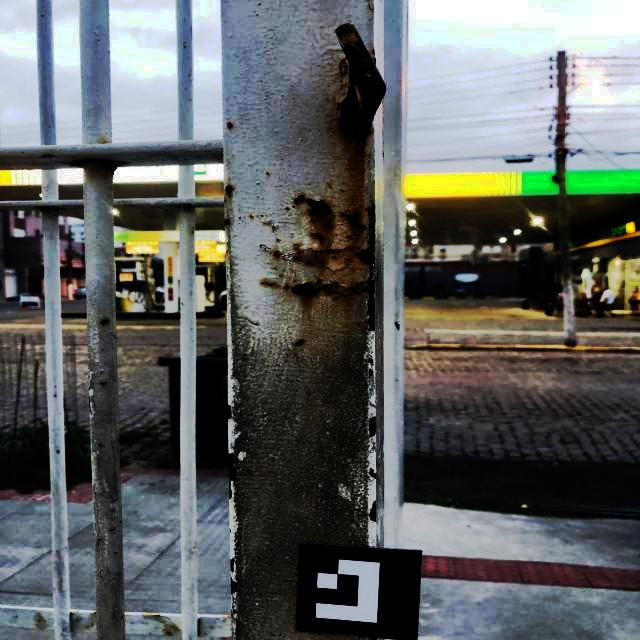Corrosion: (272, 201, 377, 332), (336, 23, 387, 142), (291, 194, 332, 217), (142, 613, 178, 636), (76, 158, 115, 176), (228, 452, 238, 499), (343, 210, 365, 229), (367, 415, 377, 439), (368, 500, 377, 524), (344, 230, 359, 241), (231, 577, 240, 594), (260, 281, 281, 287), (225, 185, 234, 197), (368, 468, 377, 480), (230, 557, 235, 573), (314, 233, 325, 240), (367, 1, 374, 11), (36, 206, 50, 211), (293, 340, 304, 346), (99, 318, 110, 324), (232, 600, 237, 613), (325, 219, 334, 226), (228, 404, 232, 419), (224, 219, 231, 227), (41, 154, 54, 158), (367, 359, 374, 365), (227, 122, 233, 129), (369, 369, 374, 377), (339, 189, 346, 194), (245, 469, 252, 474), (37, 618, 43, 623), (377, 267, 379, 281), (99, 382, 106, 386), (340, 212, 346, 216), (309, 218, 315, 222), (271, 225, 277, 229), (327, 183, 331, 189), (108, 529, 114, 532), (382, 151, 384, 159), (285, 207, 289, 210), (249, 215, 253, 218), (266, 172, 269, 175), (292, 206, 295, 208)
